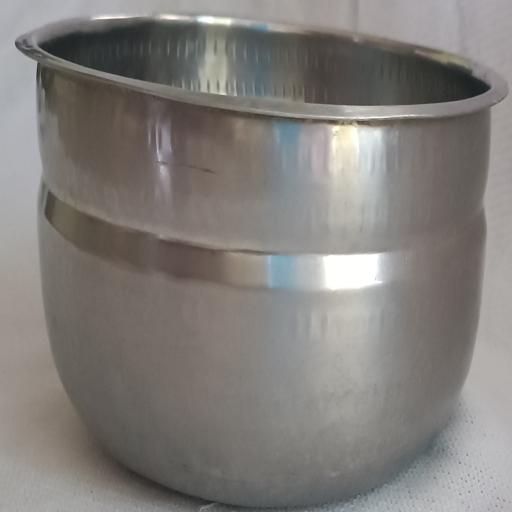vessel: (17, 15, 507, 505)
